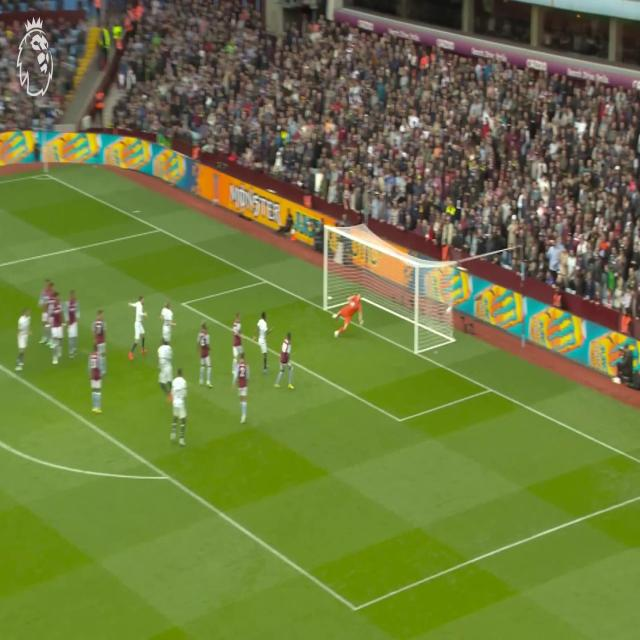left-top: (326, 228, 371, 248)
soccer-goal: (326, 229, 416, 350)
